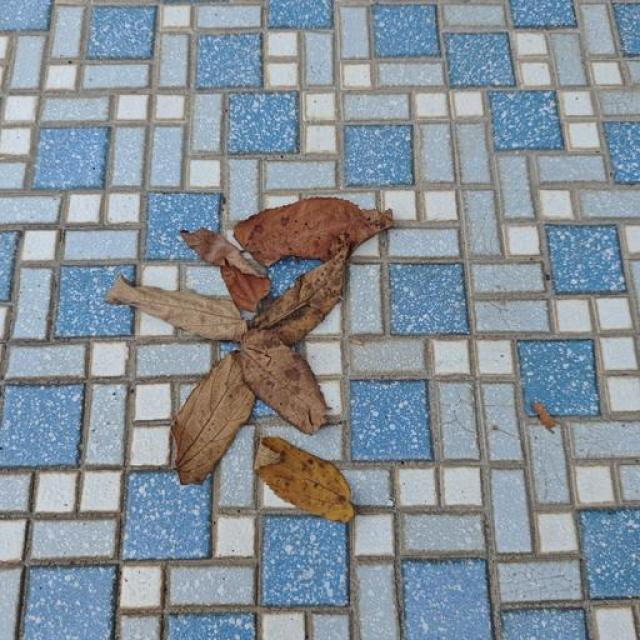organic: (50, 138, 533, 640)
